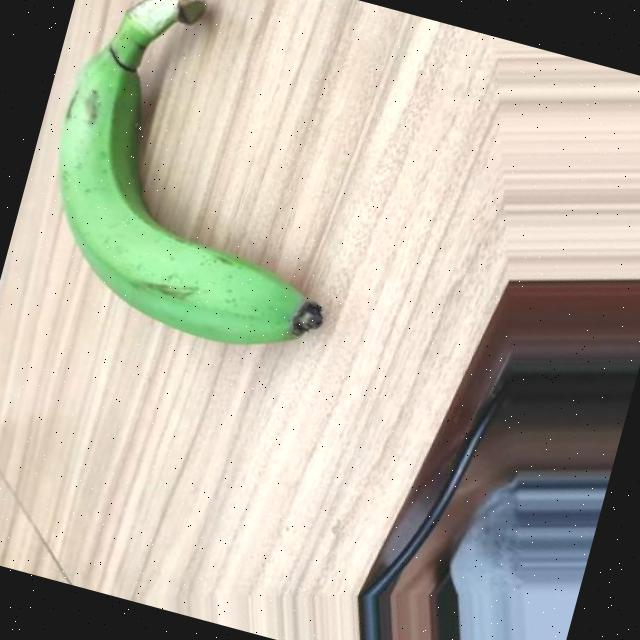Unripe: (17, 0, 396, 367)
